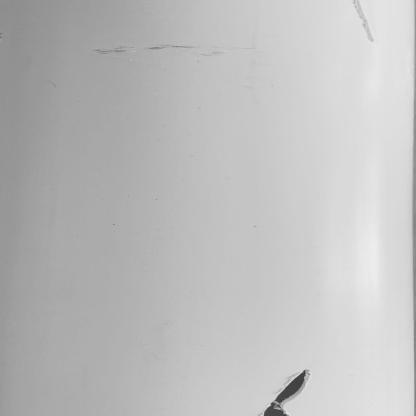kongdong: (263, 371, 313, 416)
sunshang: (88, 43, 230, 56), (349, 1, 376, 46)
